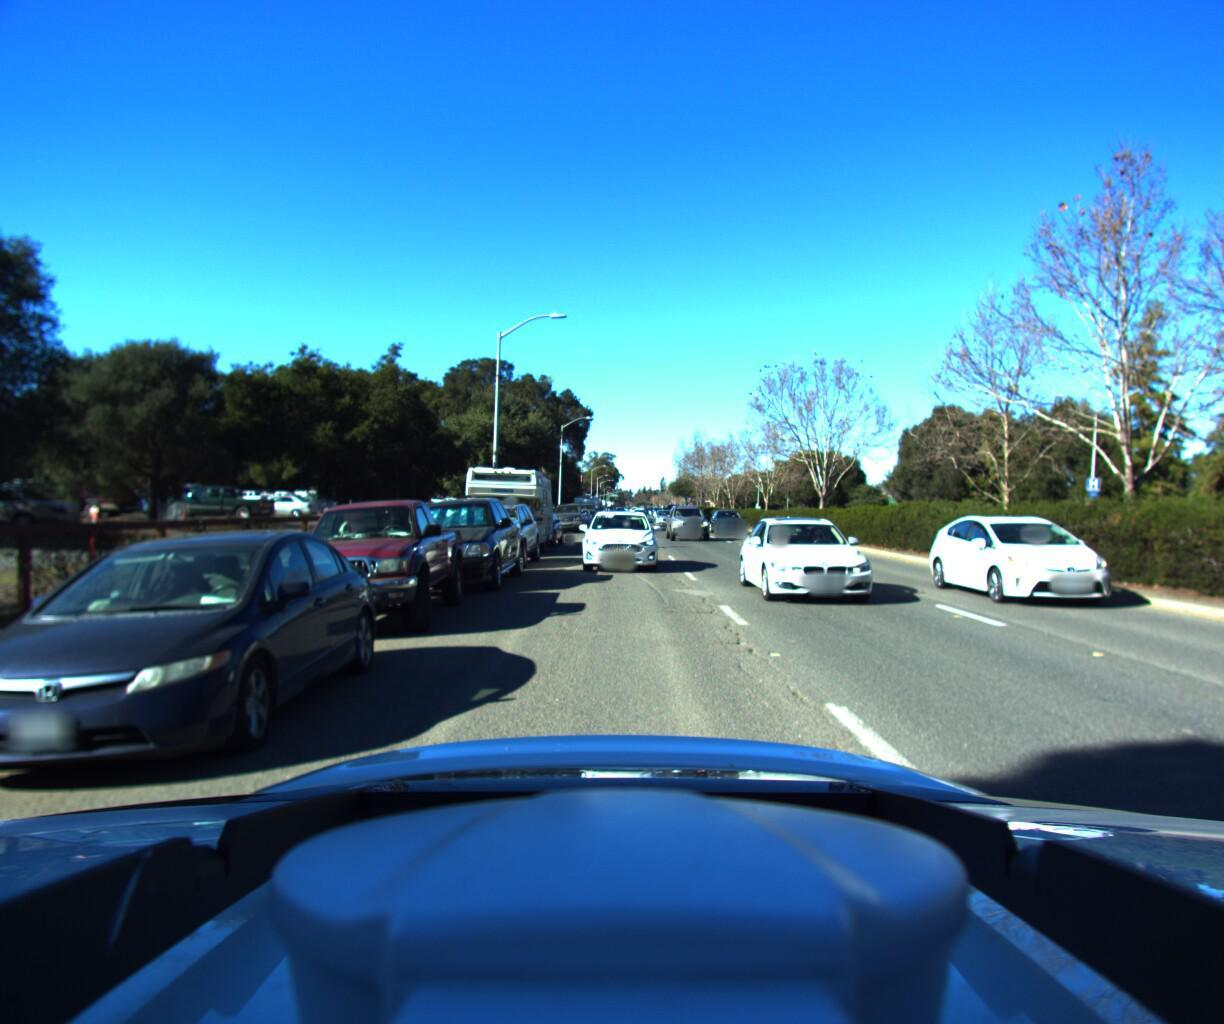car: (246, 491, 470, 650), (945, 504, 1214, 630), (741, 510, 907, 621), (371, 494, 528, 597), (445, 501, 540, 562), (578, 507, 655, 575), (665, 502, 718, 545), (708, 509, 751, 537), (546, 502, 582, 534)
other_vehicle: (448, 463, 550, 561), (569, 494, 598, 524)
